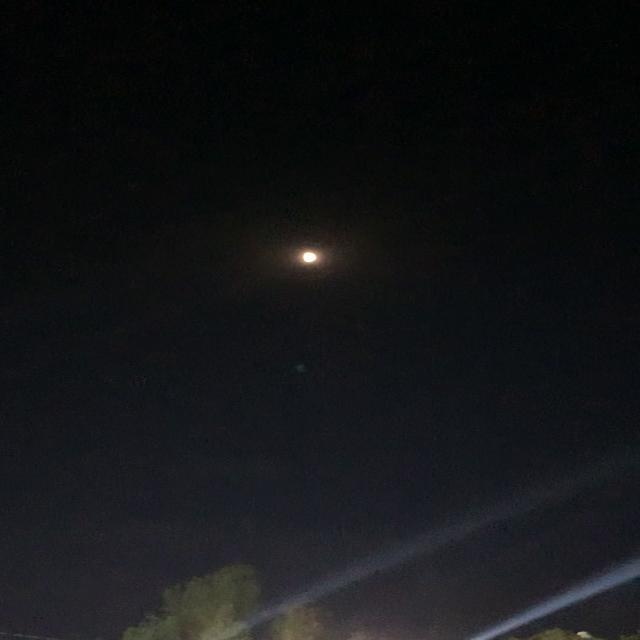moon: (287, 240, 337, 272)
